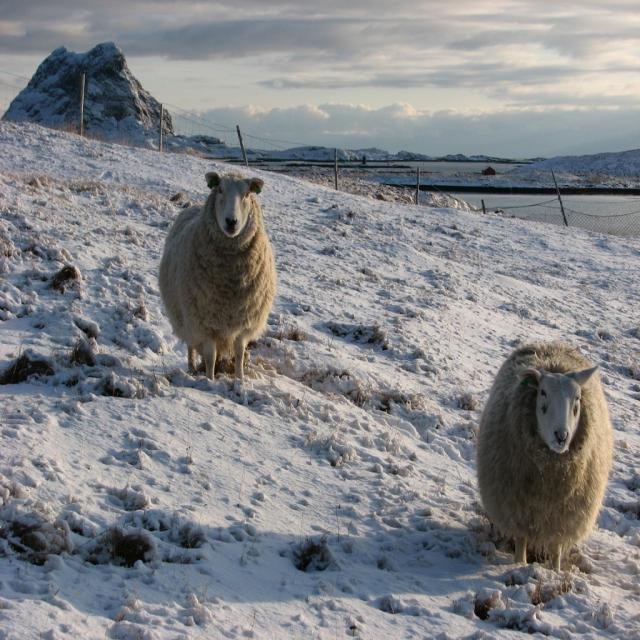Sheep: (476, 332, 608, 562), (158, 171, 278, 382)
